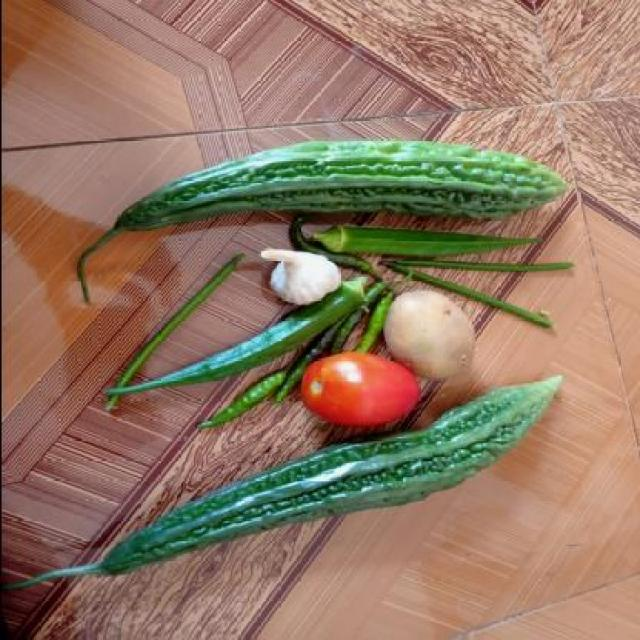Bitter melon: (89, 422, 526, 576), (118, 136, 564, 222)
Garlic: (246, 243, 339, 302)
Green Chili: (192, 371, 300, 438)
Lady finger: (315, 223, 537, 257)
Potato: (378, 288, 477, 377)
Tomato: (303, 349, 425, 423)
